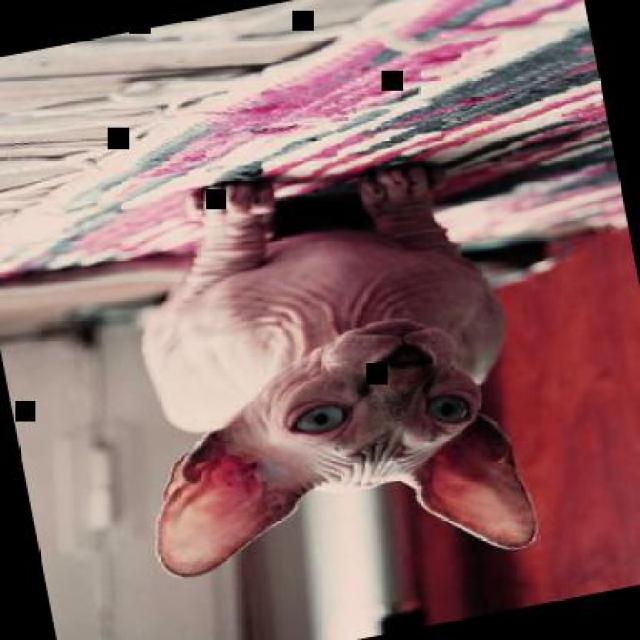cat: (88, 135, 546, 618)
